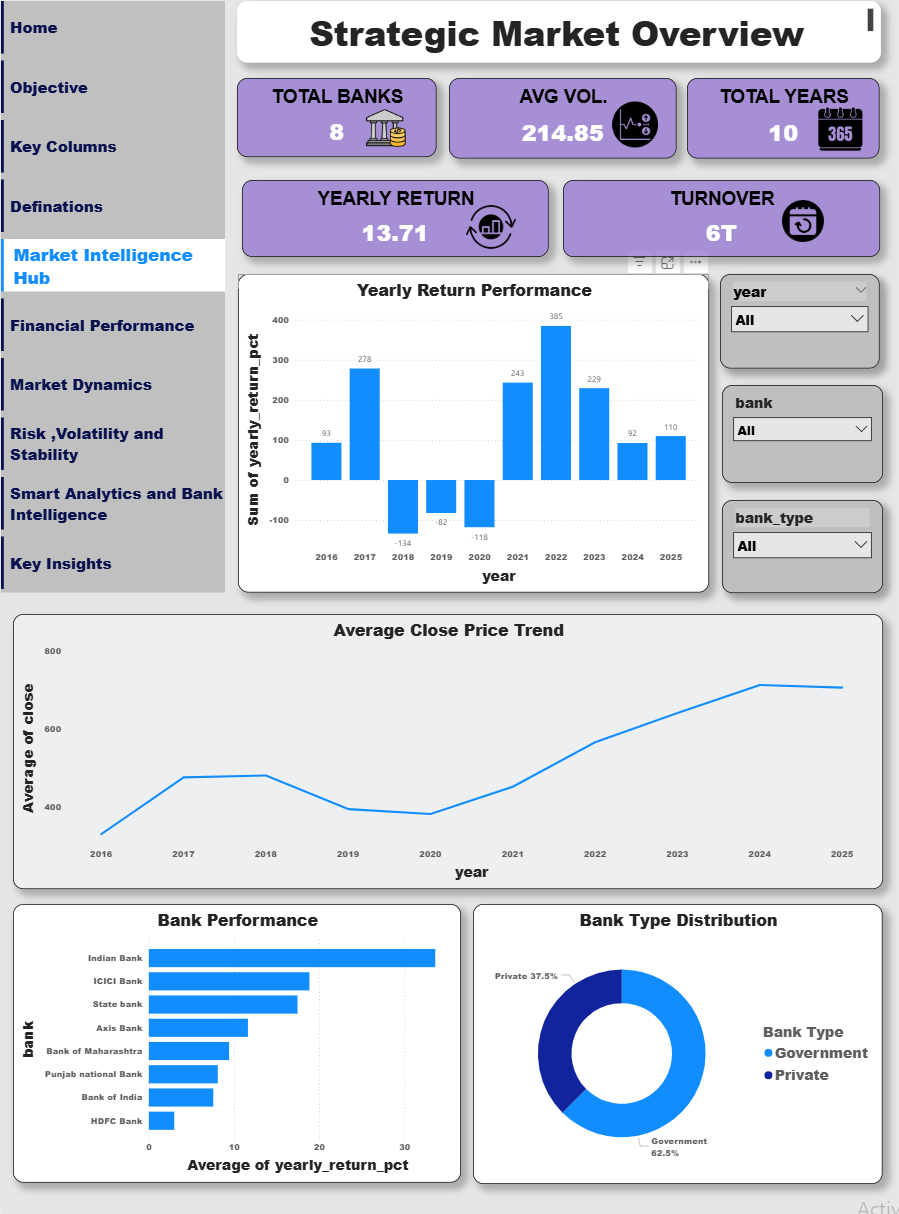

What the dashboard file says about the page in this screenshot:
{"tool":"powerbi","page":{"name":"Market Intelligence Hub","canvas":[1280,1751],"ordinal":4},"visuals":[{"type":"group","id":"g1","title":"Group 2","box":[980,127.5,275,115],"z":0,"group":"g7"},{"type":"card","title":"TOTAL BANKS","fields":{"Values":["cleaned_bank_stocks_10years.Total Banks"]},"box":[337.5,127.5,285,112.5],"z":1,"group":"g4"},{"type":"card","title":"TOTAL YEARS","fields":{"Values":["cleaned_bank_stocks_10years.Total Years"]},"box":[980,127.5,275,115],"z":2,"group":"g1"},{"type":"card","title":"AVG VOL.","fields":{"Values":["cleaned_bank_stocks_10years.Avg Volatility"]},"box":[640,127.5,325,115],"z":3,"group":"g6"},{"type":"card","title":"TURNOVER","fields":{"Values":["cleaned_bank_stocks_10years.Total Turnover"]},"box":[802.5,272.5,452.5,110],"z":4,"group":"g3"},{"type":"card","title":"YEARLY RETURN","fields":{"Values":["cleaned_bank_stocks_10years.Avg Yearly Return"]},"box":[345,273.3,437.5,110],"z":5,"group":"g8"},{"type":"group","id":"g2","title":"Group 4","box":[640,127.5,325,115],"z":2000},{"type":"group","id":"g3","title":"Group 5","box":[802.5,272.5,452.5,110],"z":3000,"group":"g9"},{"type":"lineChart","title":"Average Close Price Trend","fields":{"Category":["cleaned_bank_stocks_10years.year"],"Y":["Avg(cleaned_bank_stocks_10years.close)"]},"box":[17.5,892.5,1242.5,392.5],"z":4000},{"type":"clusteredColumnChart","title":"Yearly Return Performance","fields":{"Category":["cleaned_bank_stocks_10years.year"],"Y":["Sum(cleaned_bank_stocks_10years.yearly_return_pct)"]},"box":[338.3,406.7,673.3,455],"z":5000},{"type":"group","id":"g4","title":"Group 1","box":[337.5,127.5,285,112.5],"z":6000,"group":"g5"},{"type":"donutChart","title":"Bank Type Distribution","fields":{"Category":["cleaned_bank_stocks_10years.bank_type"],"Y":["CountNonNull(cleaned_bank_stocks_10years.bank)"]},"box":[675,1307.5,585,400],"z":7000},{"type":"clusteredBarChart","title":"Bank Performance","fields":{"Category":["cleaned_bank_stocks_10years.bank"],"Y":["Avg(cleaned_bank_stocks_10years.yearly_return_pct)"]},"box":[17.5,1307.5,640,397.5],"z":8000},{"type":"slicer","fields":{"Values":["cleaned_bank_stocks_10years.year"]},"box":[1027.5,407.5,227.5,135],"z":9000},{"type":"slicer","fields":{"Values":["cleaned_bank_stocks_10years.bank"]},"box":[1030,565,230,140],"z":10000},{"type":"slicer","fields":{"Values":["cleaned_bank_stocks_10years.bank_type"]},"box":[1030,730,230,132.5],"z":11000},{"type":"textbox","box":[337.5,17.5,920,87.5],"z":12000},{"type":"pageNavigator","box":[0,17.5,320,845],"z":13000},{"type":"image","box":[853.3,158.3,105,70],"z":13002,"group":"g6"},{"type":"image","box":[493.3,168.3,113.3,60],"z":14000,"group":"g5"},{"type":"group","id":"g5","title":"Group 7","box":[337.5,127.5,285,112.5],"z":14001},{"type":"group","id":"g6","title":"Group 6","box":[640,127.5,325,115],"z":14001,"group":"g2"},{"type":"image","box":[1158.3,168.3,81.7,63.3],"z":14002,"group":"g7"},{"type":"group","id":"g7","title":"Group 8","box":[980,127.5,275,115],"z":14003},{"type":"image","box":[1085,301.1,120,60],"z":14004,"group":"g9"},{"type":"image","box":[640,301.6,120,76.7],"z":14006,"group":"g8"},{"type":"group","id":"g8","title":"Group 3","box":[345,273.3,437.5,110],"z":14008},{"type":"group","id":"g9","title":"Group 9","box":[802.5,272.5,452.5,110],"z":14009}]}

Visuals, with their boxes in screenshot pixels (x1, y1, x2, y2), scaled from the page's 1280x1751 canvas onto the 899x1214 screenshot:
"Group 2" group: bbox(688, 88, 881, 168)
"TOTAL BANKS" card: bbox(237, 88, 437, 166)
"TOTAL YEARS" card: bbox(688, 88, 881, 168)
"AVG VOL." card: bbox(450, 88, 678, 168)
"TURNOVER" card: bbox(564, 189, 881, 265)
"YEARLY RETURN" card: bbox(242, 189, 550, 266)
"Group 4" group: bbox(450, 88, 678, 168)
"Group 5" group: bbox(564, 189, 881, 265)
"Average Close Price Trend" lineChart: bbox(12, 619, 885, 891)
"Yearly Return Performance" clusteredColumnChart: bbox(238, 282, 710, 597)
"Group 1" group: bbox(237, 88, 437, 166)
"Bank Type Distribution" donutChart: bbox(474, 907, 885, 1184)
"Bank Performance" clusteredBarChart: bbox(12, 907, 462, 1182)
slicer - cleaned_bank_stocks_10years.year: bbox(722, 283, 881, 376)
slicer - cleaned_bank_stocks_10years.bank: bbox(723, 392, 885, 489)
slicer - cleaned_bank_stocks_10years.bank_type: bbox(723, 506, 885, 598)
textbox: bbox(237, 12, 883, 73)
pageNavigator: bbox(0, 12, 225, 598)
image: bbox(599, 110, 673, 158)
image: bbox(346, 117, 426, 158)
"Group 7" group: bbox(237, 88, 437, 166)
"Group 6" group: bbox(450, 88, 678, 168)
image: bbox(814, 117, 871, 161)
"Group 8" group: bbox(688, 88, 881, 168)
image: bbox(762, 209, 846, 250)
image: bbox(450, 209, 534, 262)
"Group 3" group: bbox(242, 189, 550, 266)
"Group 9" group: bbox(564, 189, 881, 265)
